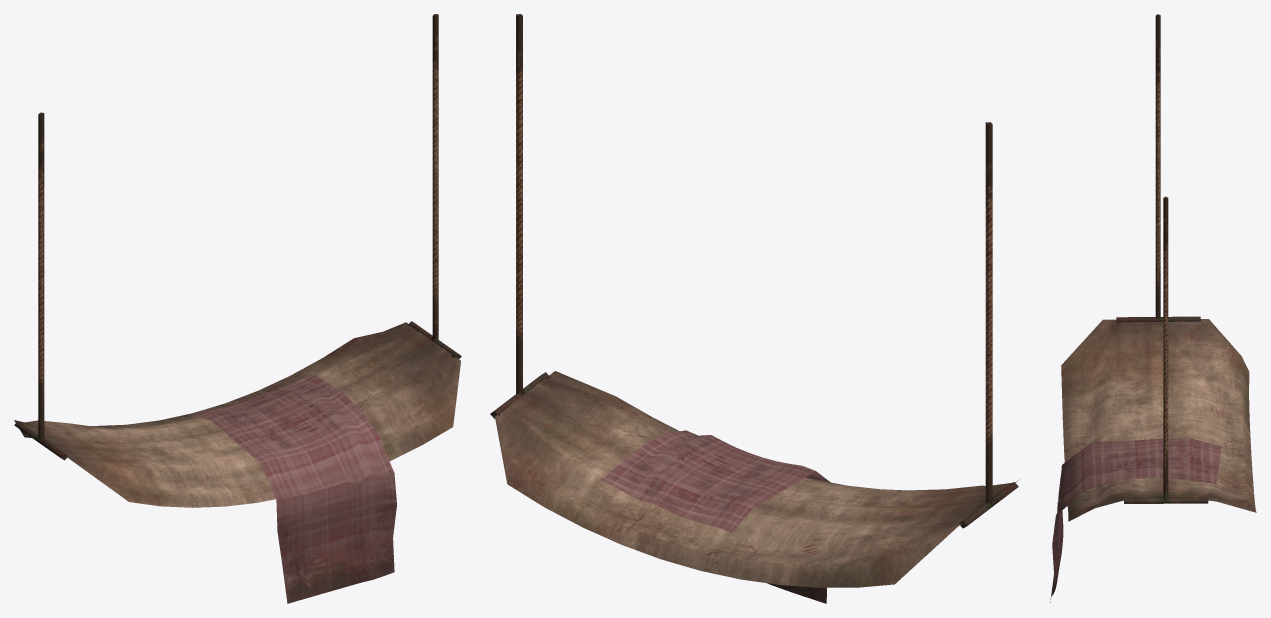
File: Hammock_blend.obj
3 renders of one model, left to right at view 1: azimuth 30°, elevation 25°; view 2: azimuth 150°, elevation 25°; view 3: azimuth 270°, elevation 25°, orthographic. The views are drawn at different scales.
Visible parts, largest first — view 1: Cloth_Untitled.001, Blanket_Untitled; view 2: Cloth_Untitled.001, Blanket_Untitled; view 3: Cloth_Untitled.001, Blanket_Untitled.
Boxes of the visible parts, x1,y1,x2,y2 form: Cloth_Untitled.001: (14,14,461,507); Blanket_Untitled: (194,374,396,603); Cloth_Untitled.001: (490,14,1019,587); Blanket_Untitled: (601,430,830,603); Cloth_Untitled.001: (1061,14,1256,521); Blanket_Untitled: (1050,438,1221,602).
Bounding box in the file's own units: 1.89 × 2.21 × 0.8904.
2 materials, 2 textured.
